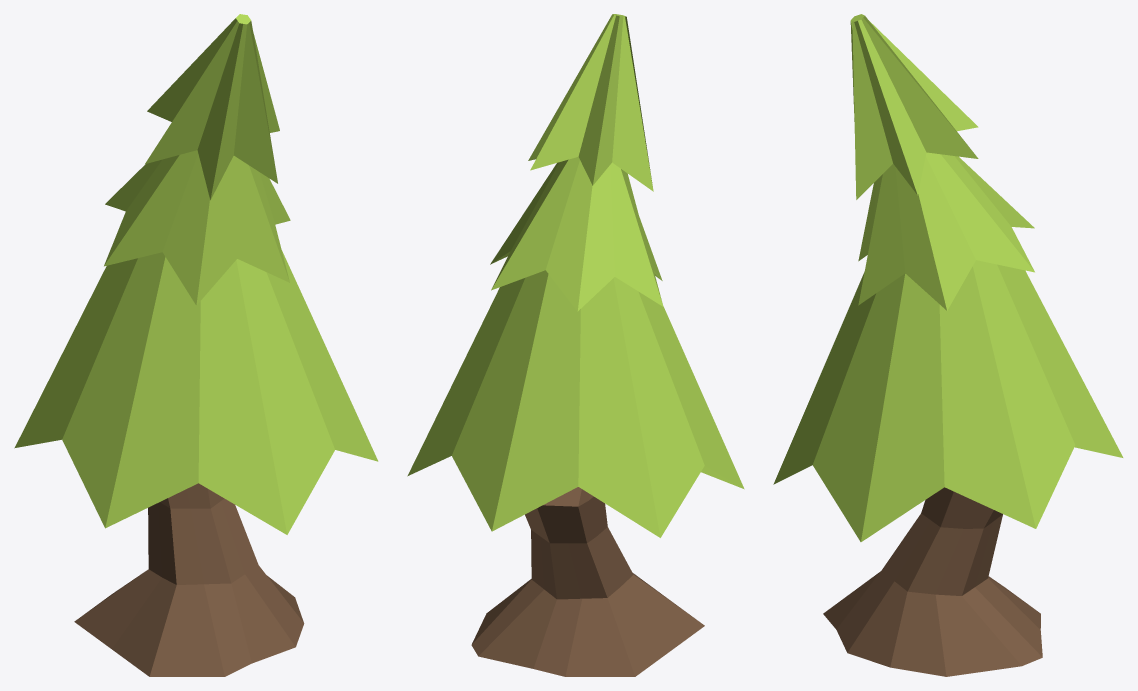
Rendered from Árvore 2.fbx.
The picture shows the model from 3 angles, left to right: view 1: azimuth 30°, elevation 25°; view 2: azimuth 150°, elevation 25°; view 3: azimuth 270°, elevation 25°; orthographic projection. The views are drawn at different scales.
Parts seen in each view (by area): view 1: Árvore2; view 2: Árvore2; view 3: Árvore2.
Boxes of the visible parts, bbox=[...] form: Árvore2: bbox=[14, 14, 378, 676]; Árvore2: bbox=[407, 14, 744, 676]; Árvore2: bbox=[773, 14, 1123, 676].
Bounding box in the file's own units: 2546 × 5677 × 2929.
